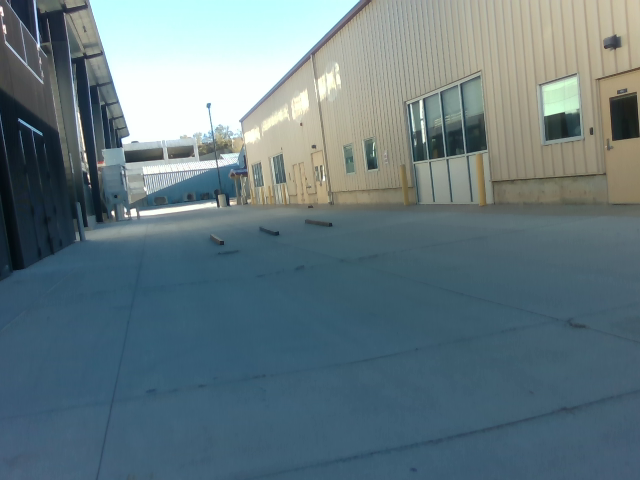Dunnage: (200, 212, 343, 255)
